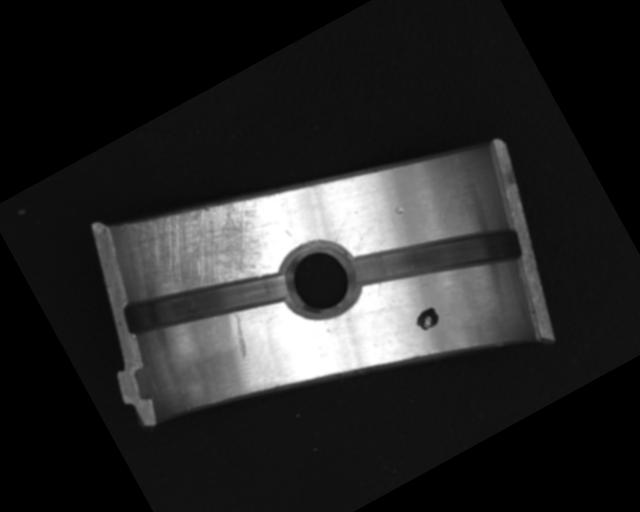blot: (411, 303, 443, 335)
bruise: (392, 203, 406, 217)
gap: (344, 182, 527, 332), (119, 232, 294, 371)
hole: (268, 229, 371, 332)
nick: (220, 309, 259, 360), (323, 211, 358, 244)
scratch: (104, 155, 298, 331)
